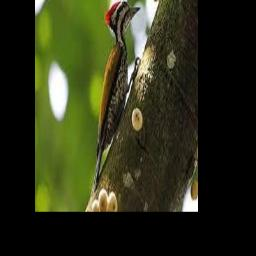Woodpecker: (92, 1, 141, 193)
